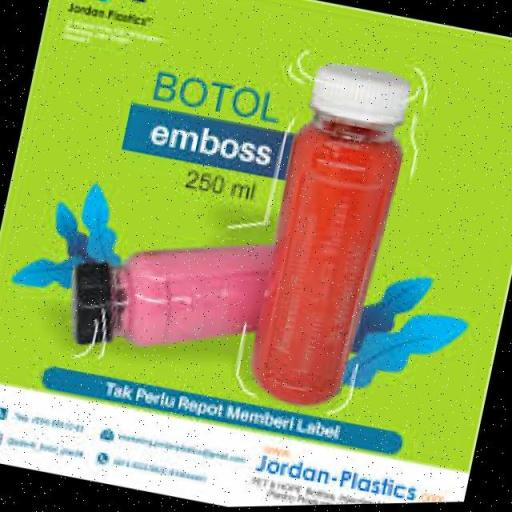plastic: (249, 66, 408, 411), (69, 245, 274, 349)
